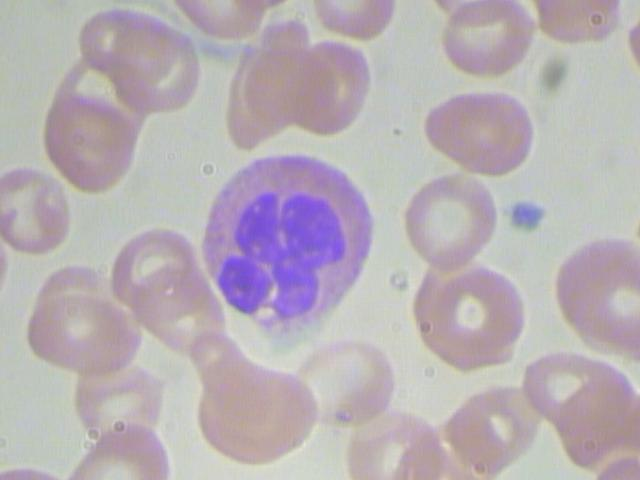RBC: (283, 328, 401, 435), (418, 260, 536, 367), (22, 283, 146, 377), (39, 95, 144, 201), (399, 169, 506, 270), (427, 87, 533, 181), (429, 1, 538, 78), (1, 168, 72, 254)
